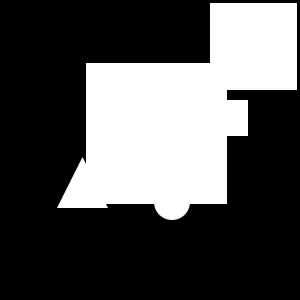circle: (86, 63, 227, 204), (210, 3, 297, 90), (212, 100, 248, 136)
rectangle: (154, 184, 190, 220)
triangle: (57, 157, 108, 208)
